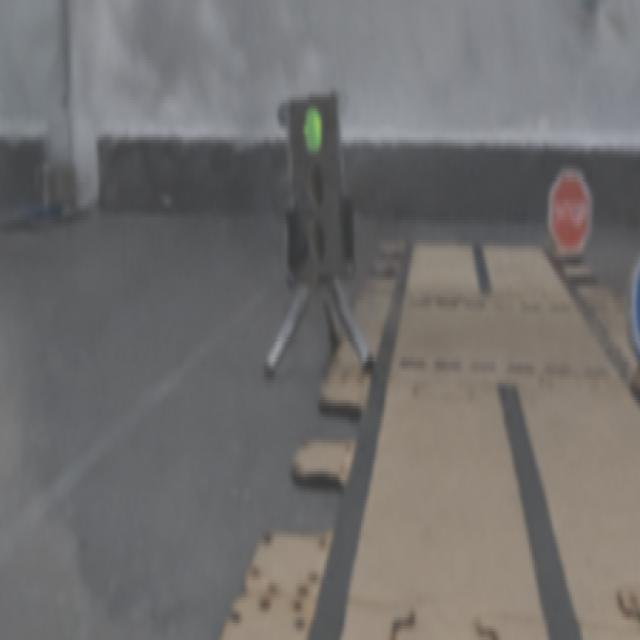STOP: (547, 169, 592, 254)
